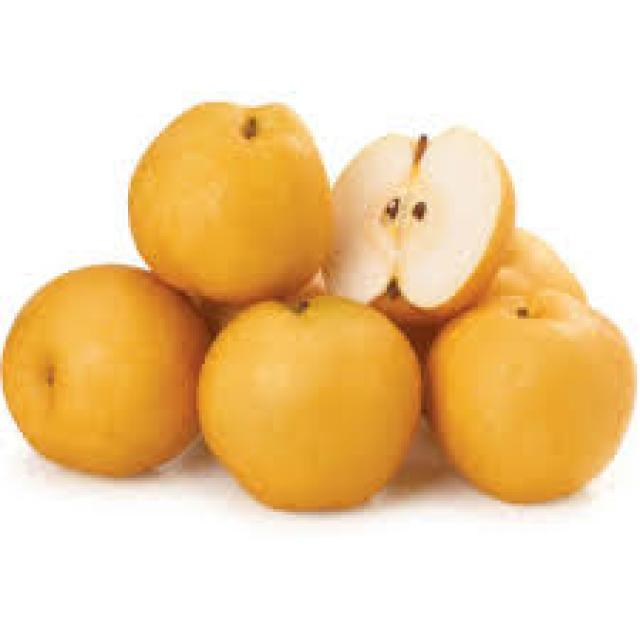pear: (199, 296, 424, 511), (432, 287, 637, 503), (3, 267, 208, 476), (131, 102, 333, 304)
